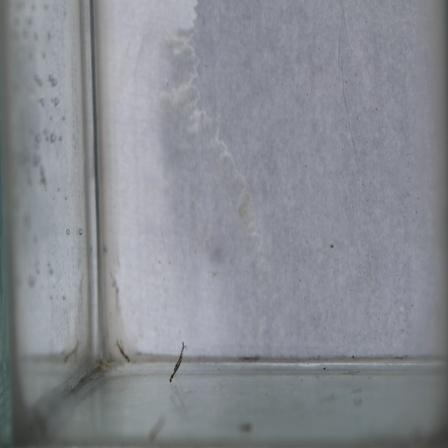Jentik-Nyamuk: (166, 340, 190, 386), (114, 336, 135, 368)
